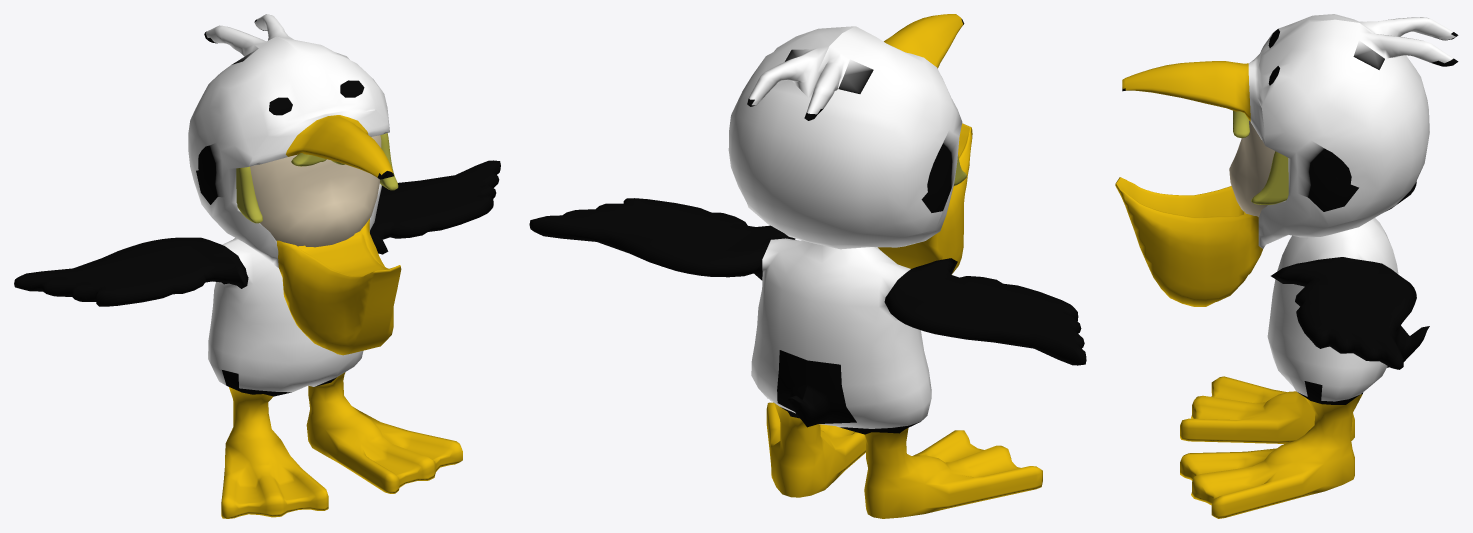
Rendered from charMesh_lighthouseIsle_pelicanPete_body.fbx.
3 views of the same model, side by side, from view 1: azimuth 30°, elevation 25°; view 2: azimuth 150°, elevation 25°; view 3: azimuth 270°, elevation 25° (orthographic). The views are drawn at different scales.
Parts seen in each view (by area): view 1: polySurface34, polySurface39, polySurface42; view 2: polySurface34; view 3: polySurface34, polySurface39, polySurface40, polySurface36.
Part boxes in pixels (x1,y1,x2,y2): polySurface34: (14, 14, 500, 518); polySurface39: (250, 135, 381, 247); polySurface42: (236, 166, 262, 223); polySurface34: (529, 14, 1086, 518); polySurface34: (1115, 14, 1458, 518); polySurface39: (1229, 120, 1275, 217); polySurface40: (1251, 151, 1288, 204); polySurface36: (1233, 110, 1249, 138).
Size of the model in its own units: 0.0495 by 0.0396 by 0.0282.
